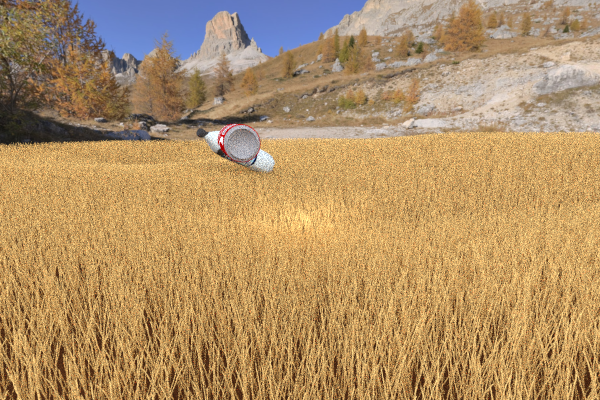Plastic Bottle: (196, 128, 275, 174), (510, 123, 575, 151), (217, 123, 260, 162)
